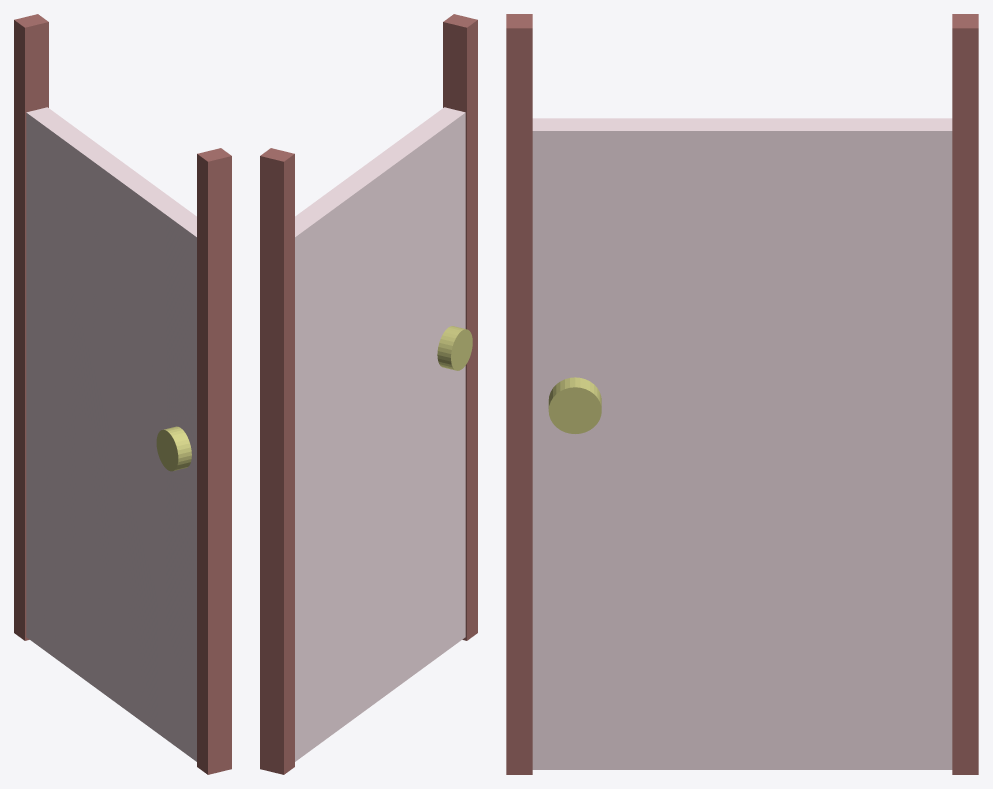
File: furtka.glb
The picture shows the model from 3 angles, left to right: view 1: azimuth 30°, elevation 25°; view 2: azimuth 150°, elevation 25°; view 3: azimuth 270°, elevation 25°; orthographic projection. The views are drawn at different scales.
Visible parts, largest first — view 1: Cube.002, Cube, Cube.001, Cylinder; view 2: Cube.002, Cube.001, Cube, Cylinder; view 3: Cube.002, Cube, Cube.001, Cylinder.
Boxes of the visible parts, x1,y1,x2,y2 form: Cube.002: [26, 107, 196, 761]; Cube: [197, 148, 231, 774]; Cube.001: [14, 14, 48, 640]; Cylinder: [156, 426, 191, 471]; Cube.002: [295, 107, 465, 761]; Cube.001: [260, 148, 294, 774]; Cube: [443, 14, 477, 640]; Cylinder: [437, 326, 472, 370]; Cube.002: [532, 118, 952, 769]; Cube: [506, 14, 532, 774]; Cube.001: [952, 14, 978, 774]; Cylinder: [548, 377, 601, 433].
Bounding box in the file's own units: 0.9923 × 11.29 × 6.47.
Materials: 4 (4 with a texture image).
